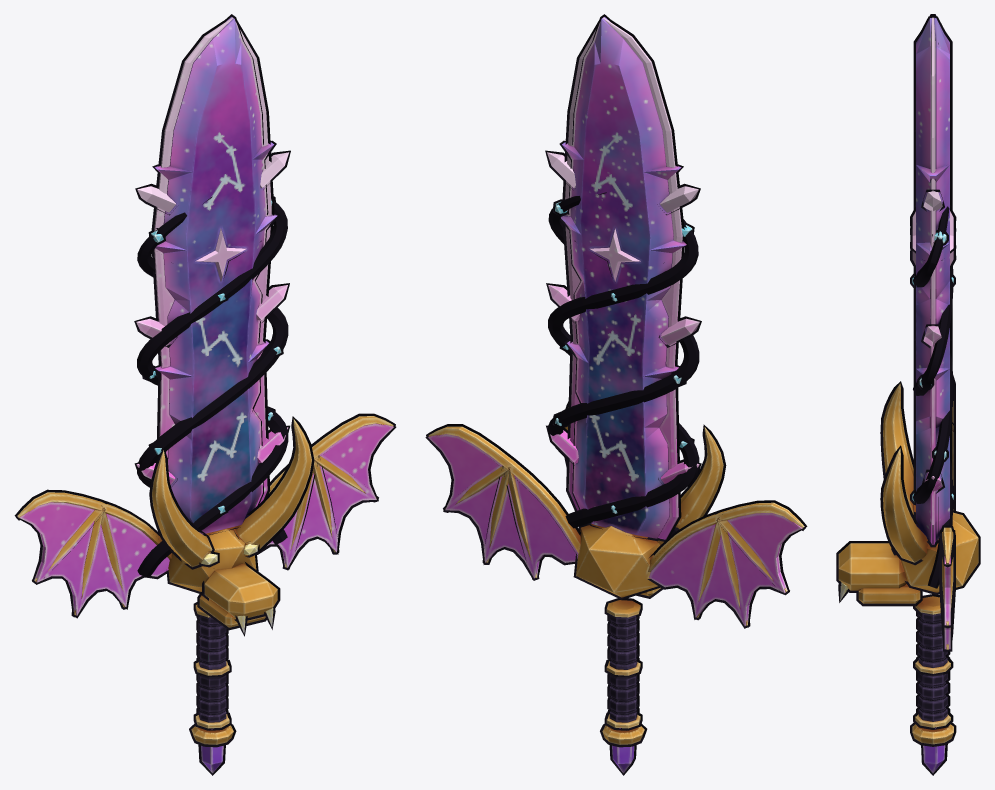
Rendered from GalaxyDragonGreatsword.fbx.
The picture shows the model from 3 angles, left to right: view 1: azimuth 30°, elevation 25°; view 2: azimuth 150°, elevation 25°; view 3: azimuth 270°, elevation 25°; orthographic projection.
Visible parts, largest first — view 1: GalaxyDragonGreatsword, GalaxyDragonGreatswordGalaxyGlow, GalaxyDragonGreatswordOutline; view 2: GalaxyDragonGreatsword, GalaxyDragonGreatswordGalaxyGlow, GalaxyDragonGreatswordOutline; view 3: GalaxyDragonGreatsword, GalaxyDragonGreatswordOutline, GalaxyDragonGreatswordGalaxyGlow.
Boxes of the visible parts, x1=… form: GalaxyDragonGreatsword: x1=17, y1=17, x2=393, y2=744; GalaxyDragonGreatswordGalaxyGlow: x1=17, y1=17, x2=393, y2=773; GalaxyDragonGreatswordOutline: x1=14, y1=14, x2=396, y2=775; GalaxyDragonGreatsword: x1=428, y1=17, x2=804, y2=744; GalaxyDragonGreatswordGalaxyGlow: x1=428, y1=17, x2=804, y2=773; GalaxyDragonGreatswordOutline: x1=425, y1=14, x2=807, y2=775; GalaxyDragonGreatsword: x1=838, y1=18, x2=978, y2=744; GalaxyDragonGreatswordOutline: x1=836, y1=14, x2=980, y2=775; GalaxyDragonGreatswordGalaxyGlow: x1=912, y1=17, x2=953, y2=773.
Bounding box in the file's own units: 368 × 701 × 119.
2 materials, 1 textured.
